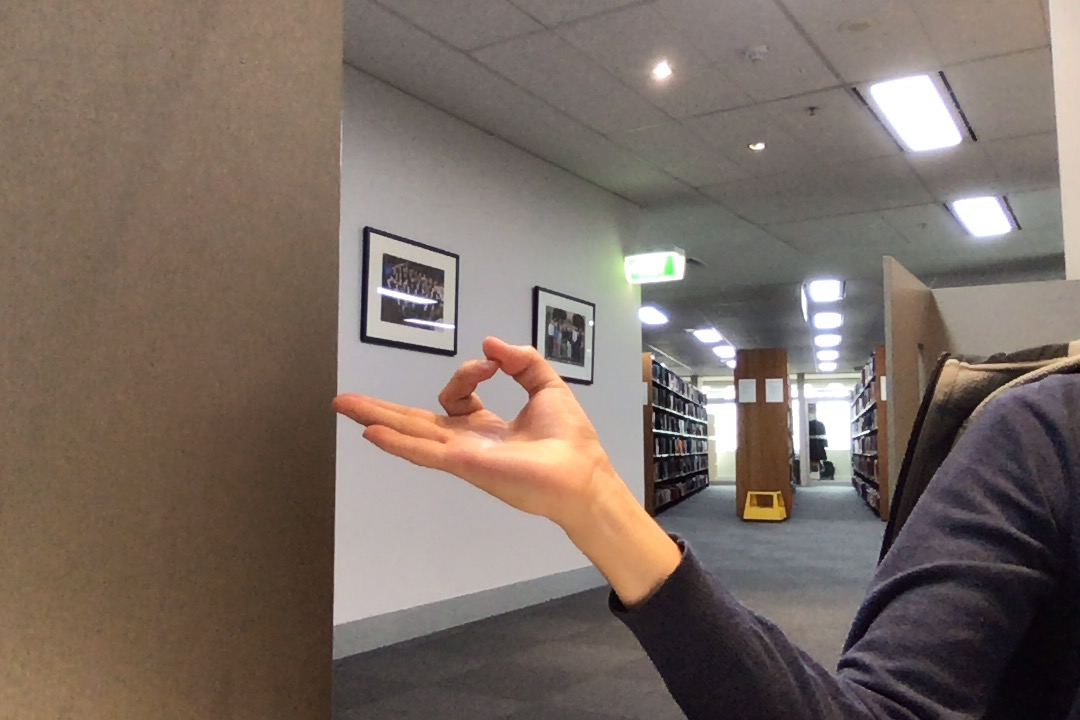oksign: (317, 331, 609, 521)
